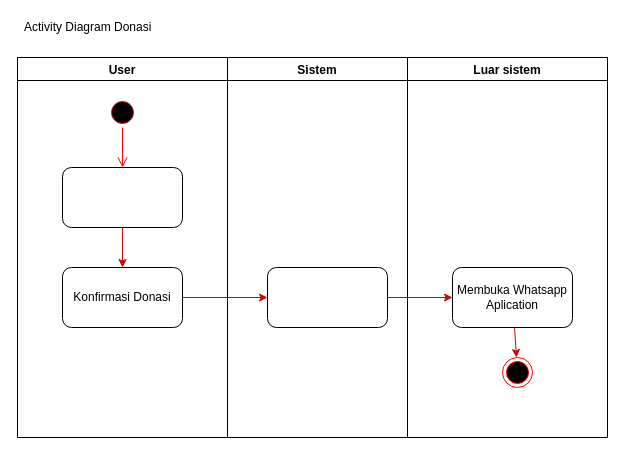
The diagram is 625 pixels wide and 455 high, and some of its shapes have lost their labels. The centre of each missing label's shape, as x and y in pixels:
"Lihat Website" goes at point 122,197.
"Mengarahkan ke Whatsapp aplication" goes at point 327,297.
